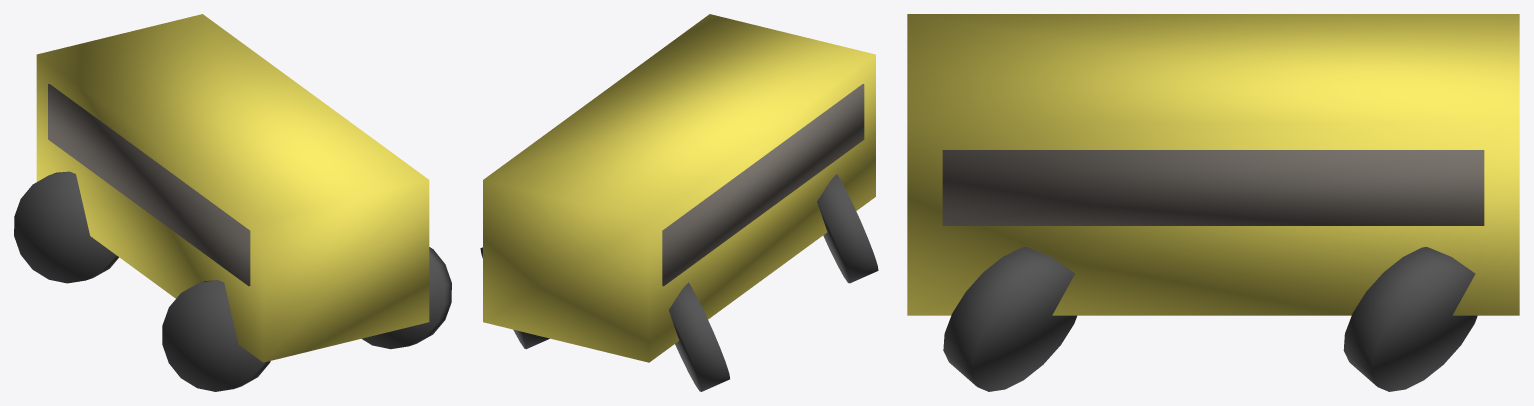
Rendered from bus.glb.
3 renders of one model, left to right at view 1: azimuth 30°, elevation 25°; view 2: azimuth 150°, elevation 25°; view 3: azimuth 270°, elevation 25°, orthographic. The views are drawn at different scales.
Visible parts, largest first — view 1: body, windows, bw_-0.58_0.85, bw_-0.58_-0.85, bw_0.58_0.85; view 2: body, windows, bw_-0.58_0.85, bw_-0.58_-0.85, bw_0.58_-0.85; view 3: body, windows, bw_0.58_0.85, bw_0.58_-0.85.
Boxes of the visible parts, bbox=[...] form: body: bbox=[36, 14, 429, 362]; windows: bbox=[48, 84, 250, 286]; bw_-0.58_0.85: bbox=[162, 280, 270, 391]; bw_-0.58_-0.85: bbox=[14, 171, 118, 283]; bw_0.58_0.85: bbox=[362, 247, 451, 349]; body: bbox=[483, 14, 875, 362]; windows: bbox=[662, 84, 864, 286]; bw_-0.58_0.85: bbox=[817, 174, 878, 283]; bw_-0.58_-0.85: bbox=[669, 282, 729, 391]; bw_0.58_-0.85: bbox=[480, 247, 549, 349]; body: bbox=[907, 14, 1519, 315]; windows: bbox=[942, 150, 1484, 225]; bw_0.58_0.85: bbox=[943, 247, 1076, 391]; bw_0.58_-0.85: bbox=[1343, 247, 1477, 391].
Bounding box in the file's own units: 1.76 × 1.23 × 2.6.
